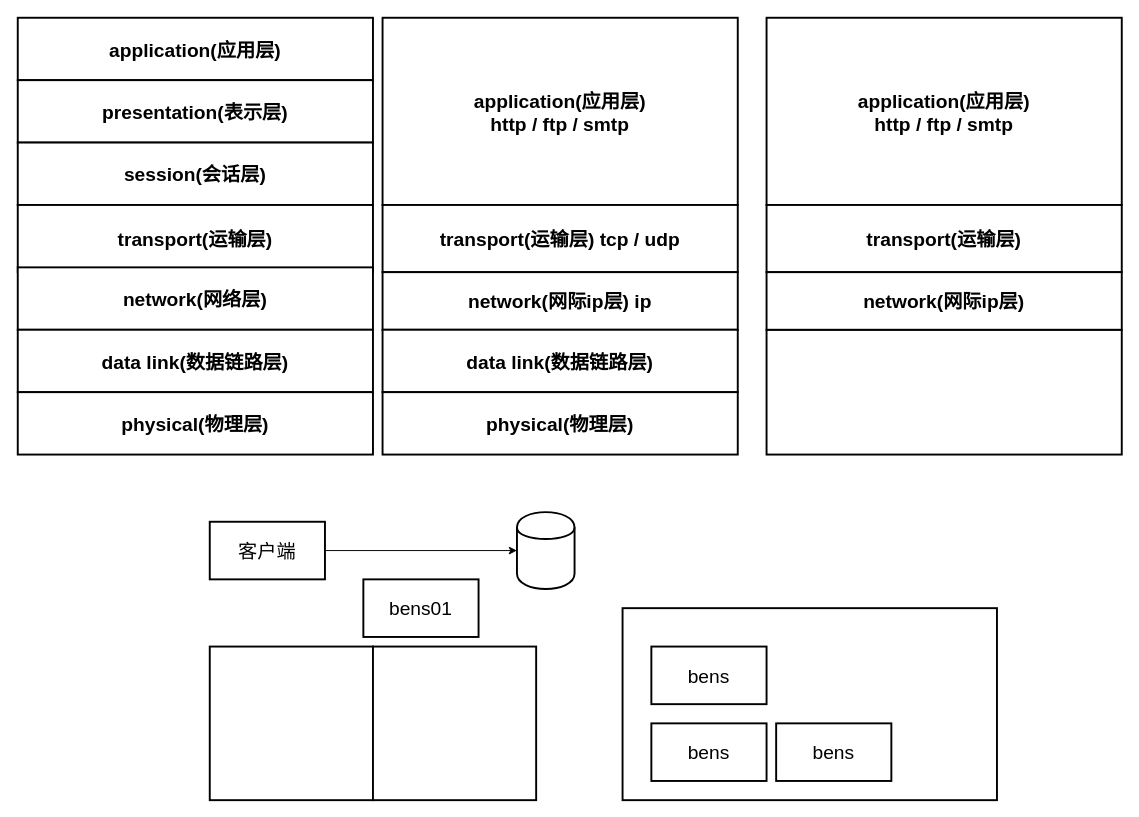
Some shapes in this 1139 by 817 pixel diagram are drawn without their labels. Here are the shapes that lost their labels. From the top down, the centre of each, then its label:
point 943,391: Internet interface(网络接口层)
point 545,550: dB
